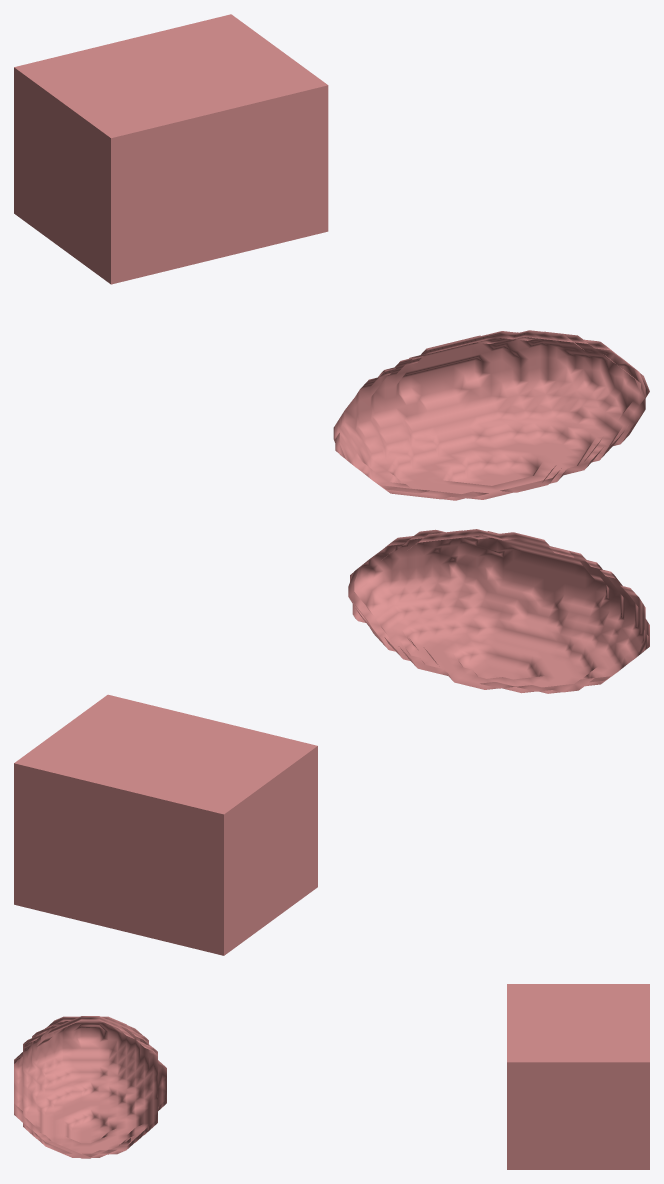
The model's file is 239544_occ.glb.
3 views of the same model, one above another, from view 1: azimuth 30°, elevation 25°; view 2: azimuth 150°, elevation 25°; view 3: azimuth 270°, elevation 25° (orthographic). The views are drawn at different scales.
Visible parts, largest first — view 1: world; view 2: world; view 3: world.
Part boxes in pixels (left/top/right/bottom): world: left=14, top=14, right=649, bottom=500; world: left=14, top=529, right=649, bottom=955; world: left=14, top=984, right=649, bottom=1169.
Bounding box in the file's own units: 2.8 × 1.42 × 7.07.
